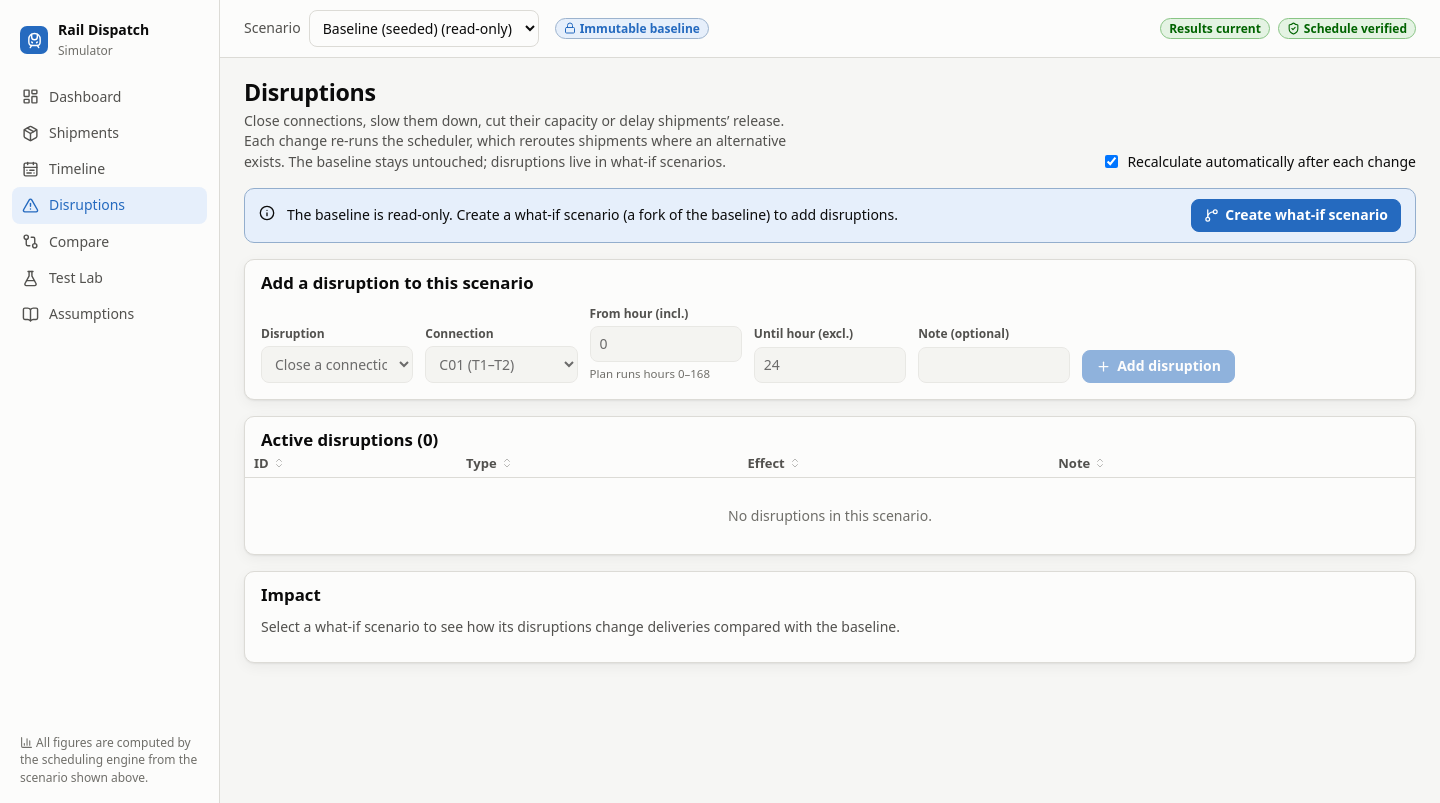
Test: disruptions page › adds a closure, shows the impact against the baseline and keeps the baseline result
The image size is (1440, 803).
Expected: the button "Add disruption" is disabled, [1082,350,1235,383]
Click the button "Create what-if scenario" at point(1296, 215), box [1191,199,1401,232]
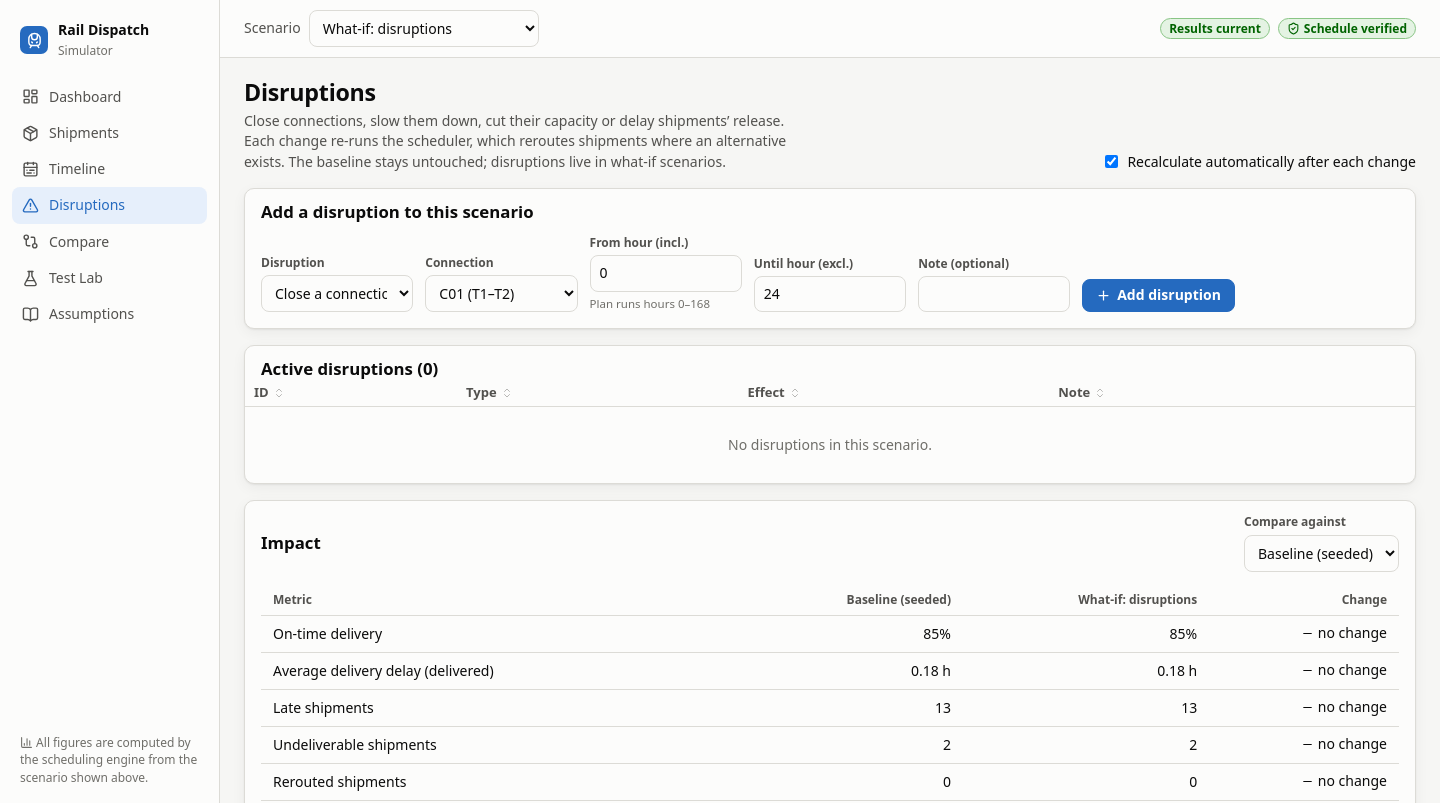
Select "C03 (T1–T4)" in the dropdown labelled "Connection" at point(501, 294), box [425,275,578,312]
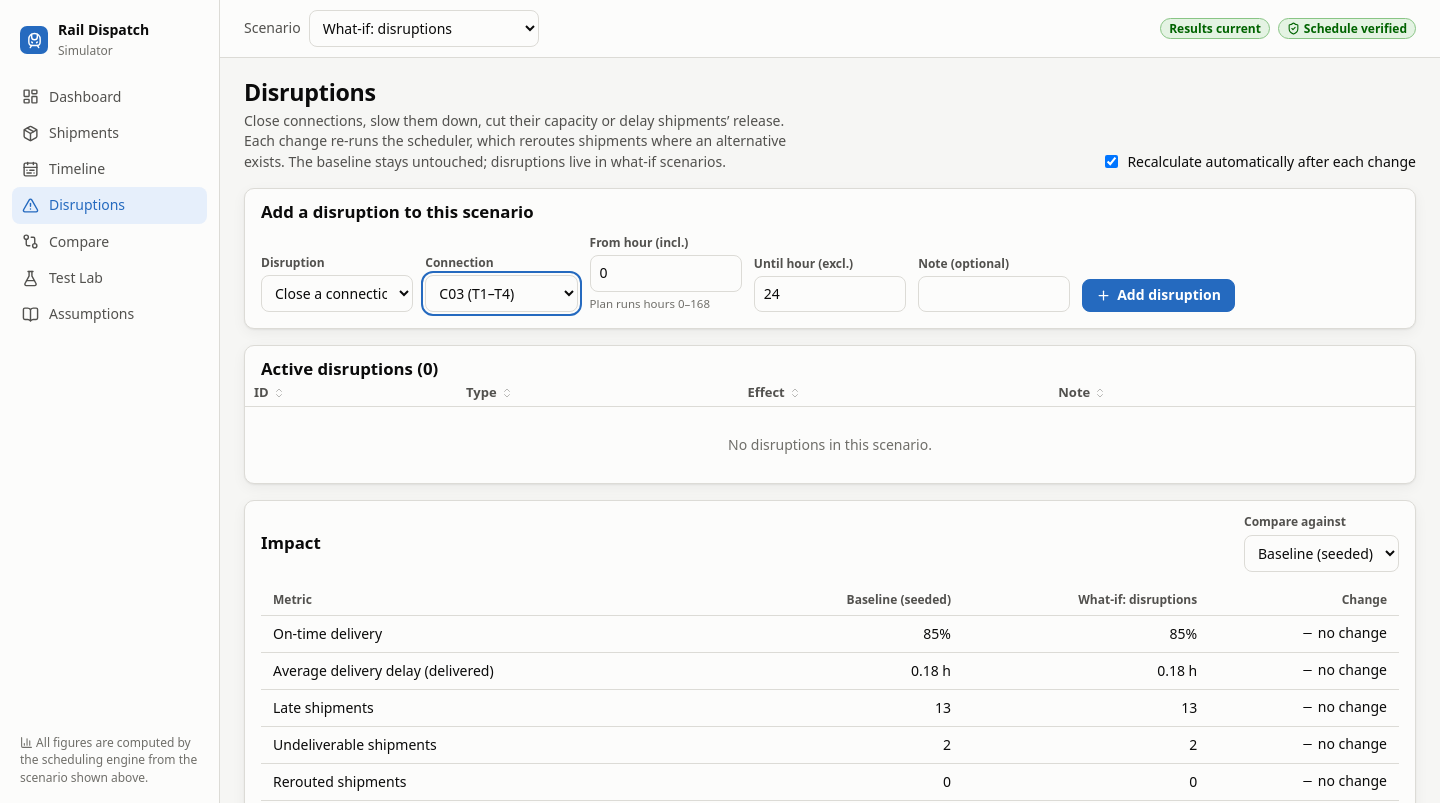
Replace the text in the number field labelled "Until hour (excl.)" with "60" at point(830, 294), box [754,276,906,312]
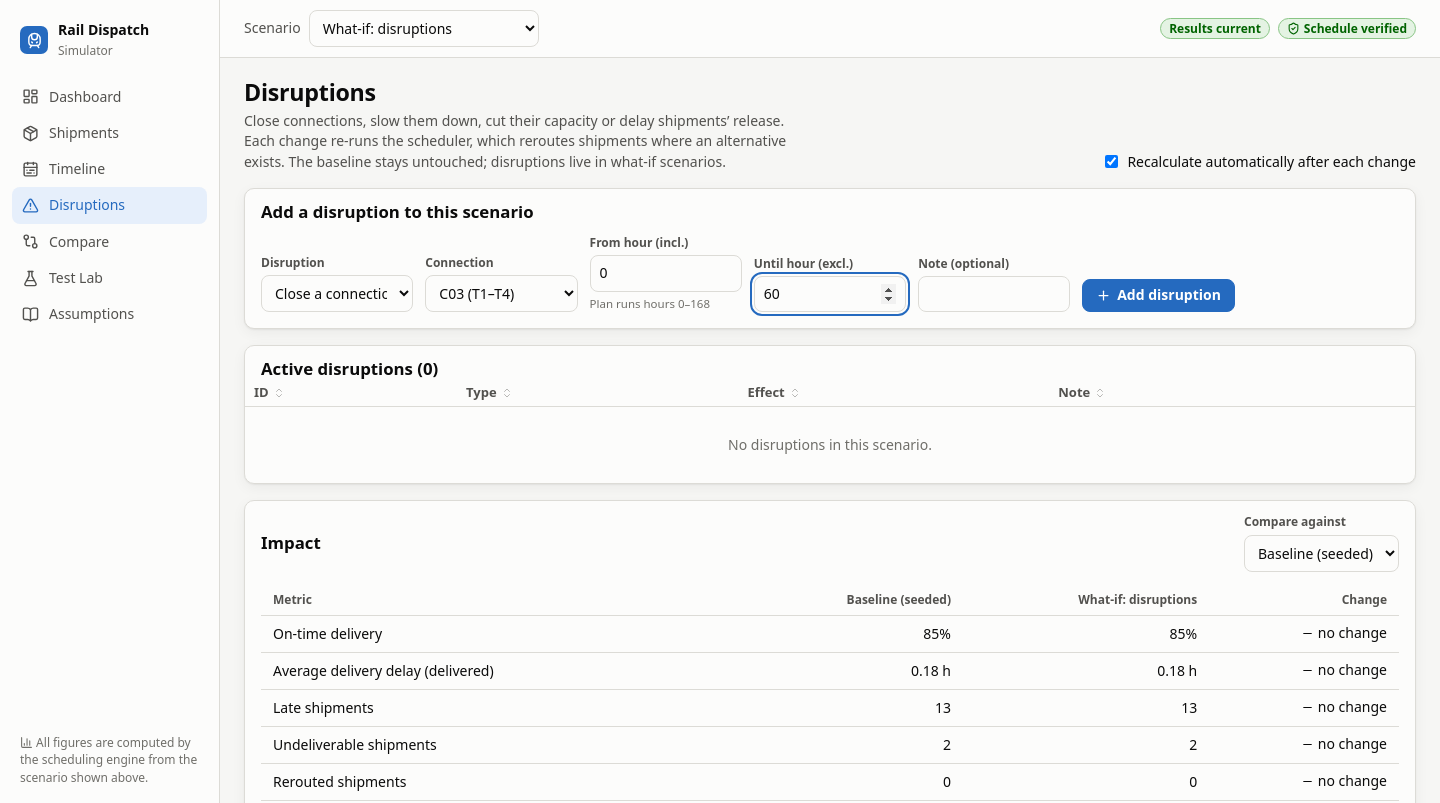
Click the button "Add disruption" at point(1159, 296), box [1082,279,1235,312]
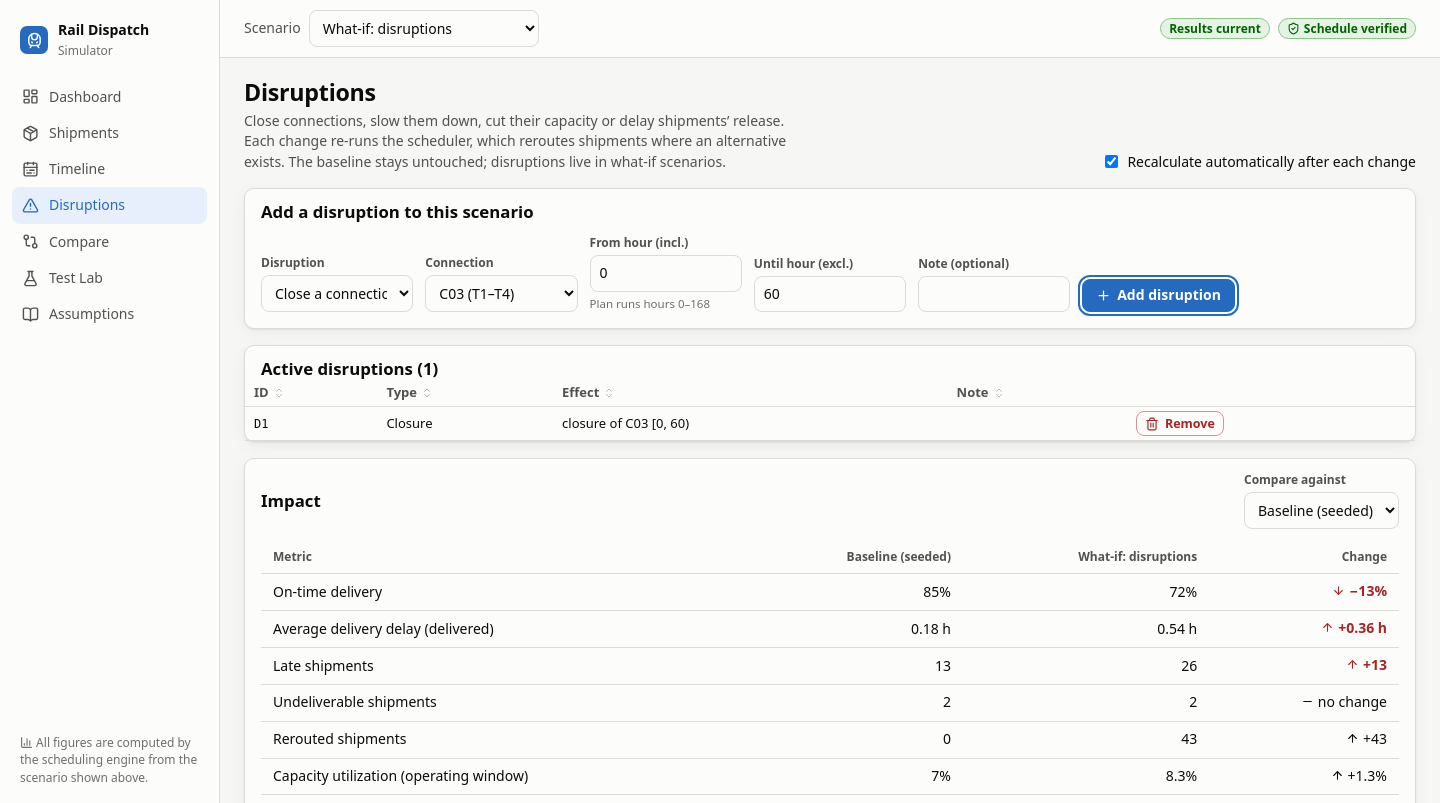
Expected: the text "85%" is shown, [742,574,963,610]
Expected: the text "closure of C03 [0, 60)" is shown, [553,407,948,441]
Select "Baseline (seeded) (read-only)" in the dropdown named "Active scenario" at point(424, 28), box [309,10,539,47]
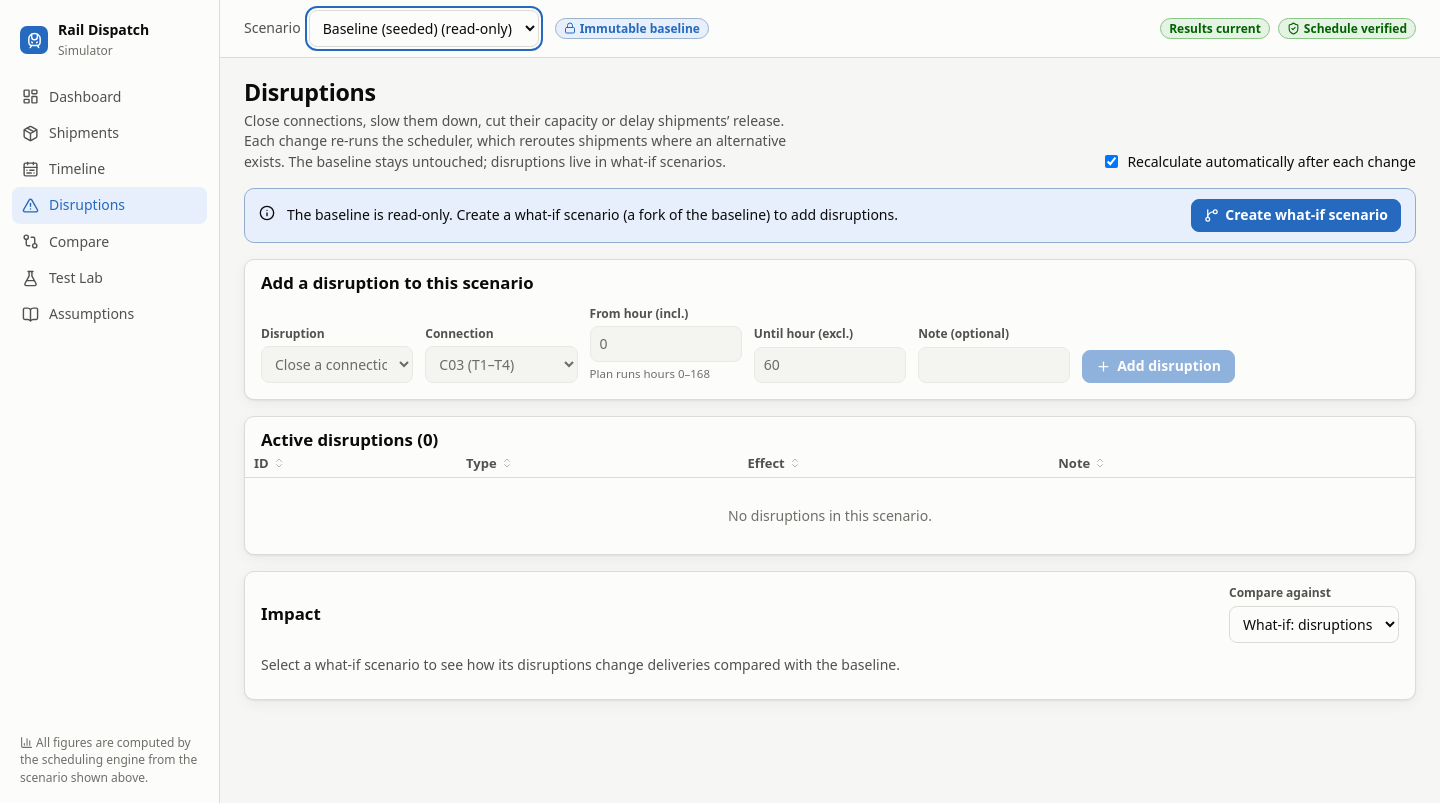
Expected: the button "Add disruption" is disabled, [1082,350,1235,383]
